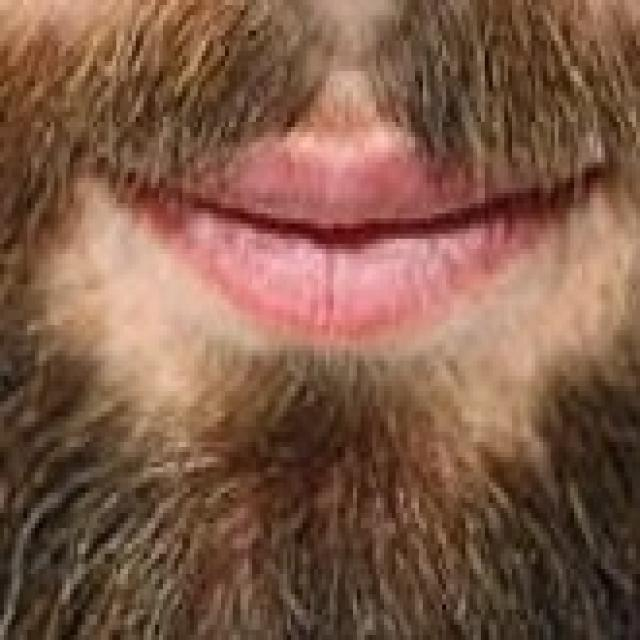closed-mouth: (88, 120, 604, 344)
